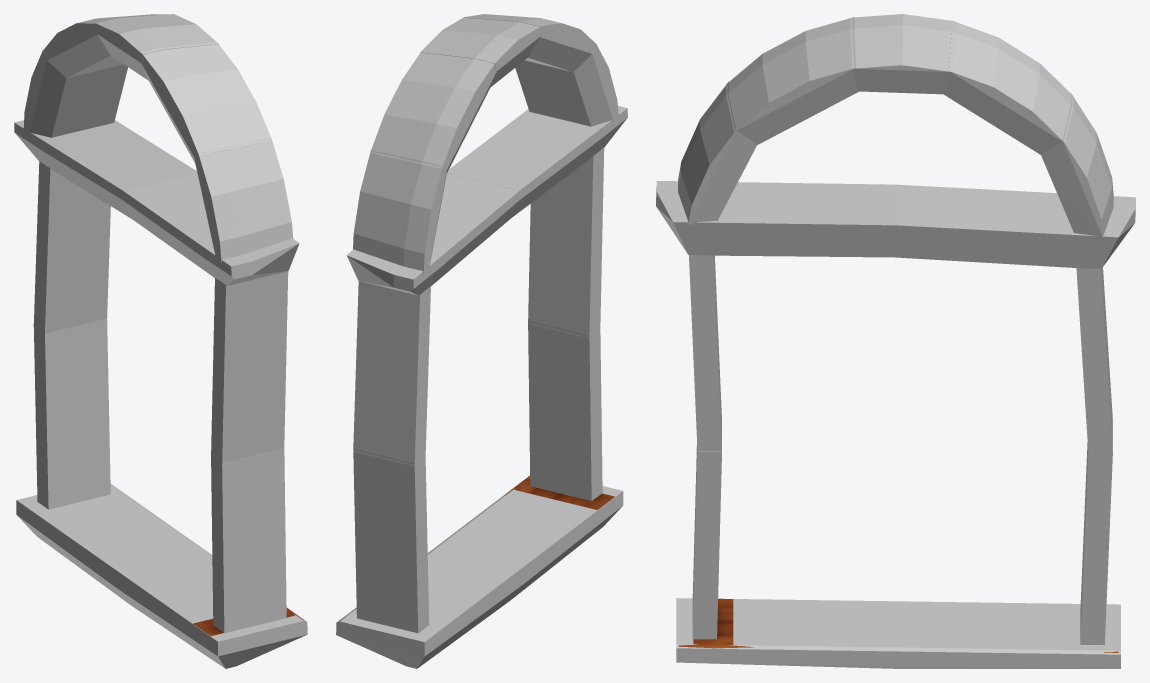
File: SM_PropWindow01TypeH_1_2.fbx
3 renders of one model, left to right at view 1: azimuth 30°, elevation 25°; view 2: azimuth 150°, elevation 25°; view 3: azimuth 270°, elevation 25°, orthographic. The views are drawn at different scales.
Visible parts, largest first — view 1: SM_PropWindow01TypeH_1_2_ConvexHulls; view 2: SM_PropWindow01TypeH_1_2_ConvexHulls, SM_PropWindow01TypeH_1_2; view 3: SM_PropWindow01TypeH_1_2_ConvexHulls, SM_PropWindow01TypeH_1_2.
Boxes of the visible parts, x1=… form: SM_PropWindow01TypeH_1_2_ConvexHulls: x1=14, y1=14, x2=307, y2=668; SM_PropWindow01TypeH_1_2_ConvexHulls: x1=336, y1=14, x2=627, y2=668; SM_PropWindow01TypeH_1_2: x1=340, y1=476, x2=614, y2=620; SM_PropWindow01TypeH_1_2_ConvexHulls: x1=656, y1=14, x2=1135, y2=668; SM_PropWindow01TypeH_1_2: x1=678, y1=598, x2=1118, y2=652.
Bounding box in the file's own units: 44.98 × 189 × 274.
Materials: 2 (1 with a texture image).
